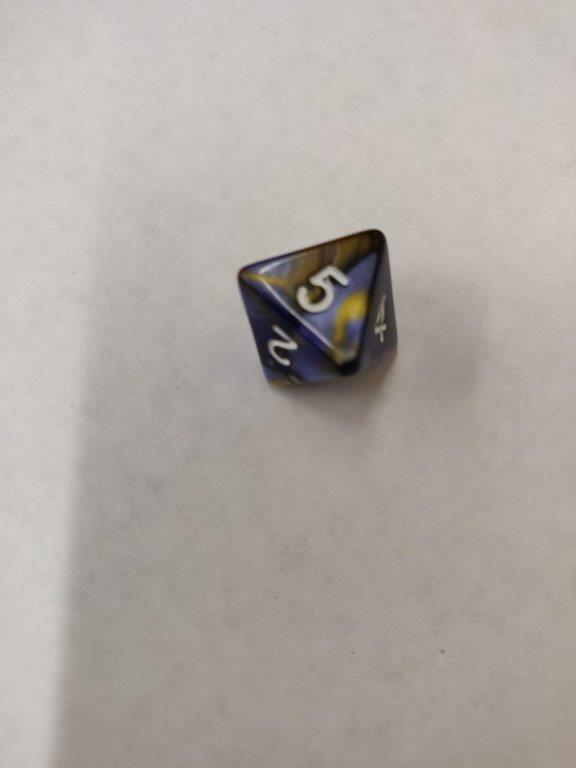d8-5: (235, 224, 405, 388)
